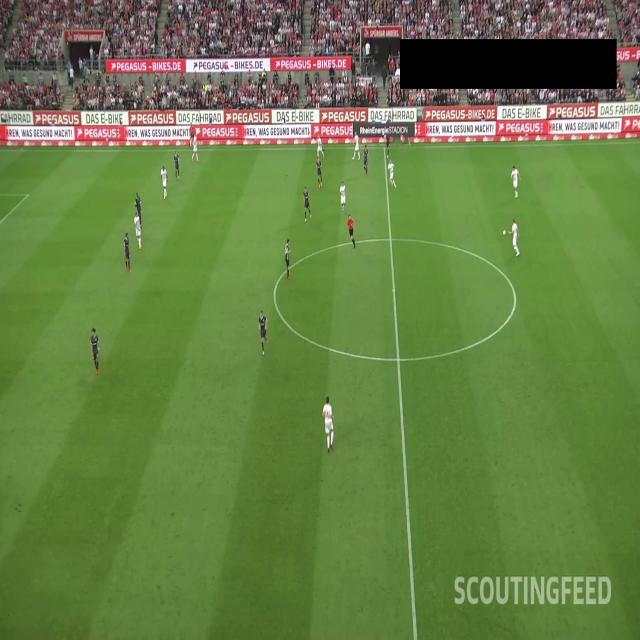Ball: (502, 229, 506, 236)
Referee: (346, 215, 356, 249), (188, 124, 194, 151)
TEAM 1: (90, 327, 100, 377), (258, 310, 268, 355), (123, 231, 132, 273), (303, 186, 312, 224), (284, 240, 292, 282), (134, 189, 142, 230), (315, 156, 323, 190), (173, 151, 181, 181), (362, 146, 370, 174), (384, 129, 390, 158)
TEAM 2: (320, 395, 334, 451), (508, 219, 520, 259), (133, 211, 144, 250), (316, 133, 326, 163), (388, 159, 397, 192), (512, 164, 520, 200), (191, 133, 200, 164), (160, 165, 168, 199), (338, 180, 346, 212), (352, 132, 360, 163)
